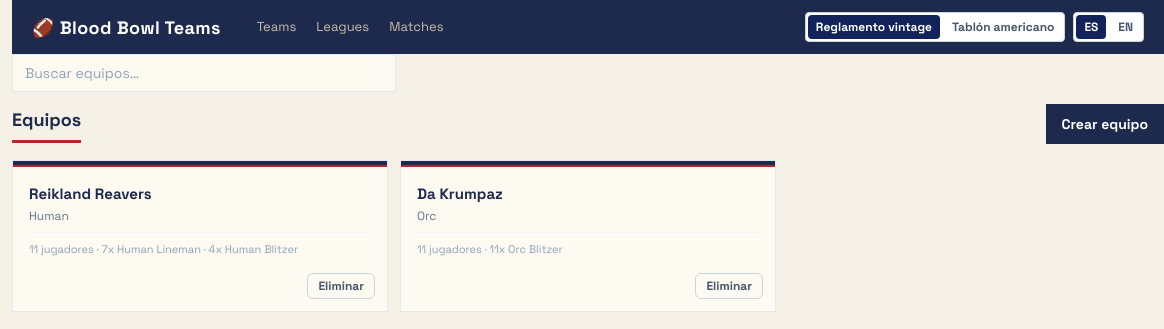
TeamList › shows a no-matches message when the query matches nothing
This screenshot has width=1164, height=329.
expect the heading "Reikland Reavers" is shown: met, box [29, 184, 152, 203]
Type "nuffle" into the search field labelled "Buscar equipos…" at (204, 73), box [12, 54, 396, 92]
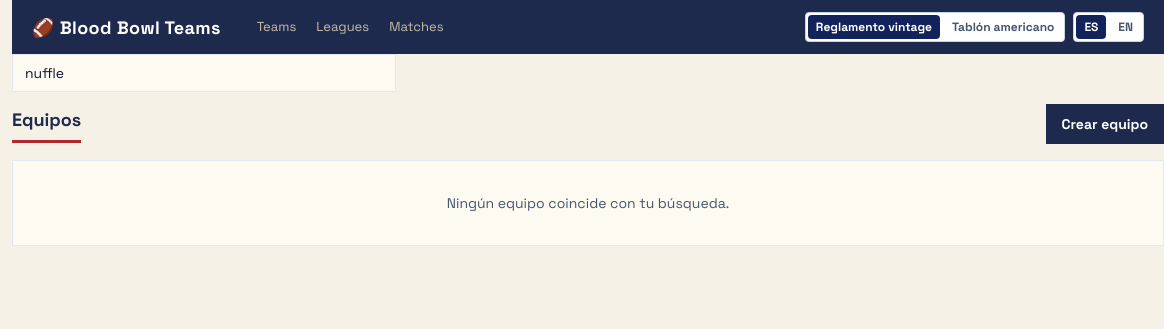
expect the text "Ningún equipo coincide con tu búsqueda." is shown: met, box [447, 194, 729, 212]
